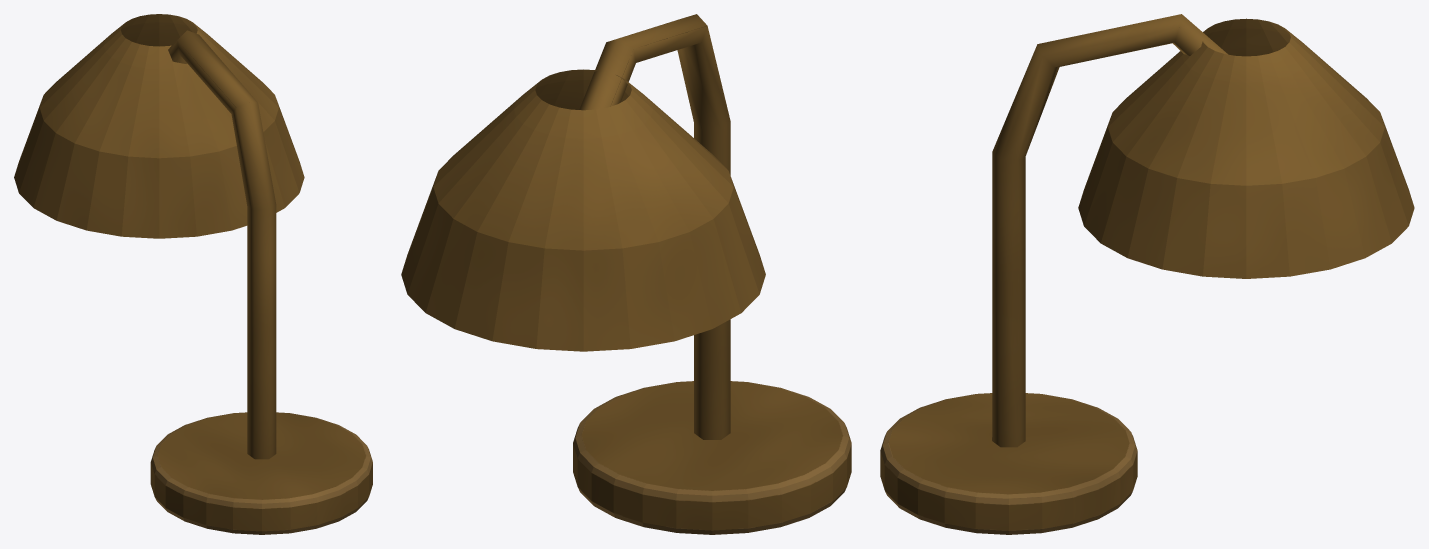
File: 22_Piano_Lamp.fbx
3 views of the same model, side by side, from view 1: azimuth 30°, elevation 25°; view 2: azimuth 150°, elevation 25°; view 3: azimuth 270°, elevation 25° (orthographic). The views are drawn at different scales.
Visible parts, largest first — view 1: 22_Piano_Lamp; view 2: 22_Piano_Lamp; view 3: 22_Piano_Lamp.
Part boxes in pixels (left/top/right/bottom): 22_Piano_Lamp: left=14, top=14, right=372, bottom=534; 22_Piano_Lamp: left=401, top=14, right=851, bottom=534; 22_Piano_Lamp: left=880, top=14, right=1414, bottom=534.
Size of the model in its own units: 34 by 52.38 by 54.
1 material, 1 textured.
